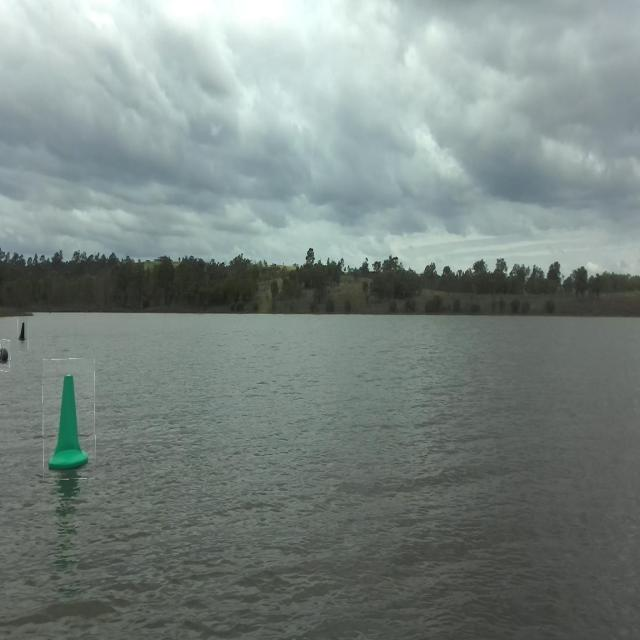Black_Buoy: (15, 317, 31, 352), (0, 337, 10, 376)
Green_Buoy: (42, 364, 90, 480)
